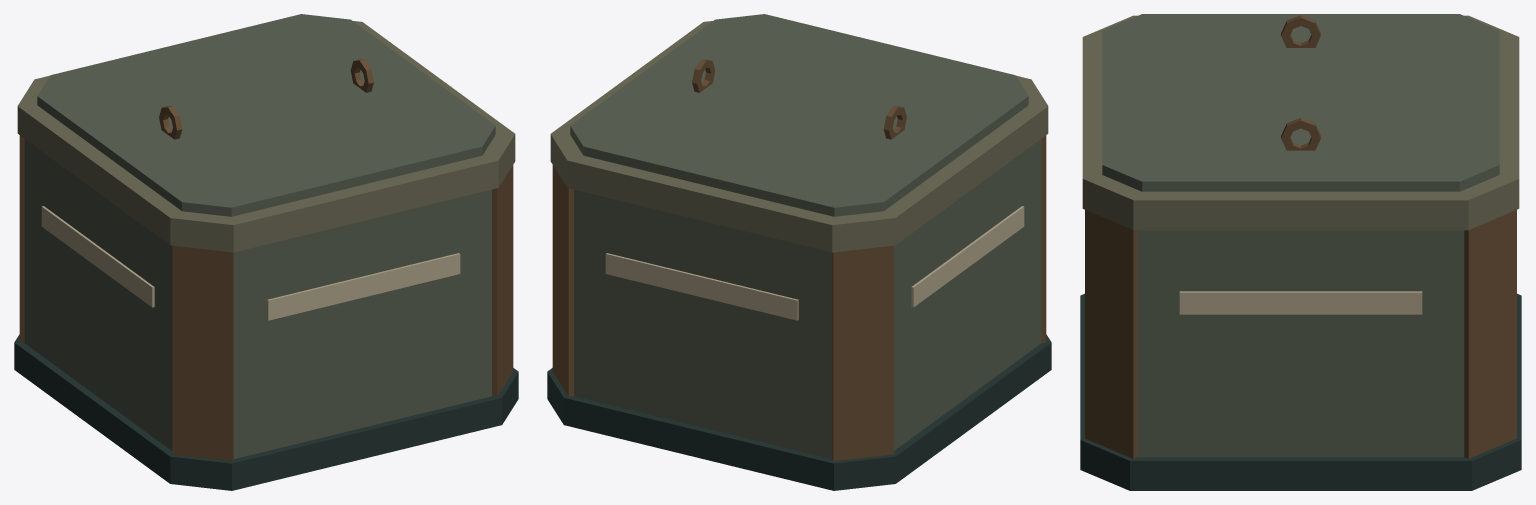
File: pocket_kit.glb
3 views of the same model, side by side, from view 1: azimuth 30°, elevation 25°; view 2: azimuth 150°, elevation 25°; view 3: azimuth 270°, elevation 25° (orthographic). The views are drawn at different scales.
Visible parts, largest first — view 1: PocketBlock; view 2: PocketBlock; view 3: PocketBlock.
Part boxes in pixels (left/top/right/bottom): PocketBlock: left=14, top=14, right=518, bottom=490; PocketBlock: left=547, top=14, right=1051, bottom=490; PocketBlock: left=1080, top=14, right=1521, bottom=490.
Size of the model in its own units: 4 by 3.3 by 4.
